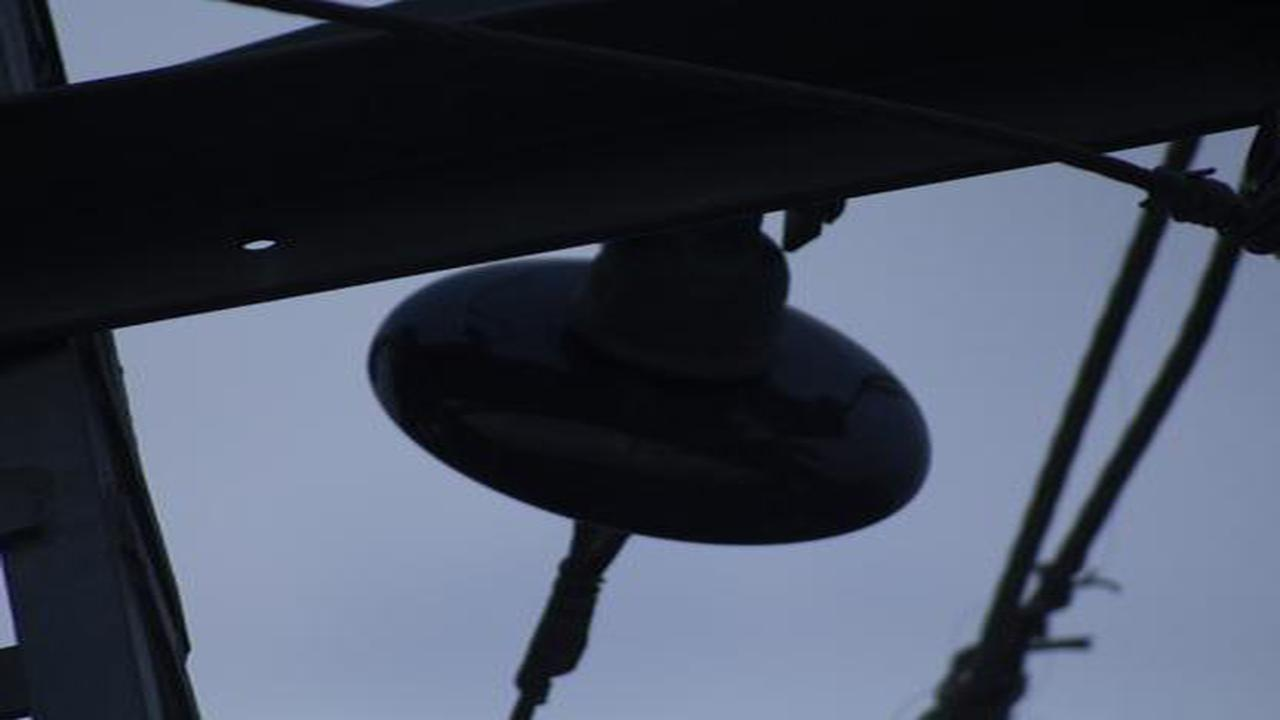insulator_disc: (372, 211, 959, 558)
